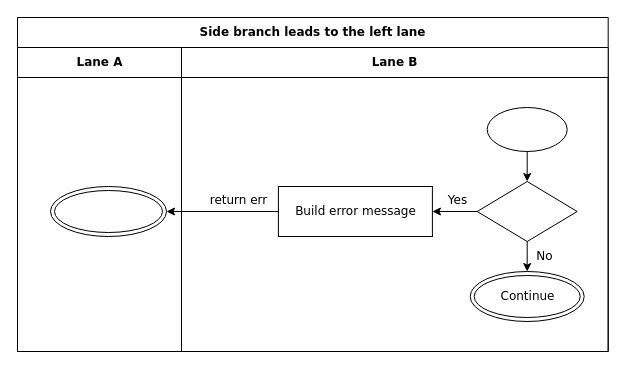
Some shapes in this 626 by 369 pixel diagram are drawn without their labels. Here are the shapes that lost their labels. From the top down, the box of each, then its label:
(486, 106, 567, 152): Enter
(50, 186, 166, 236): Get error
(476, 180, 577, 242): Error?
